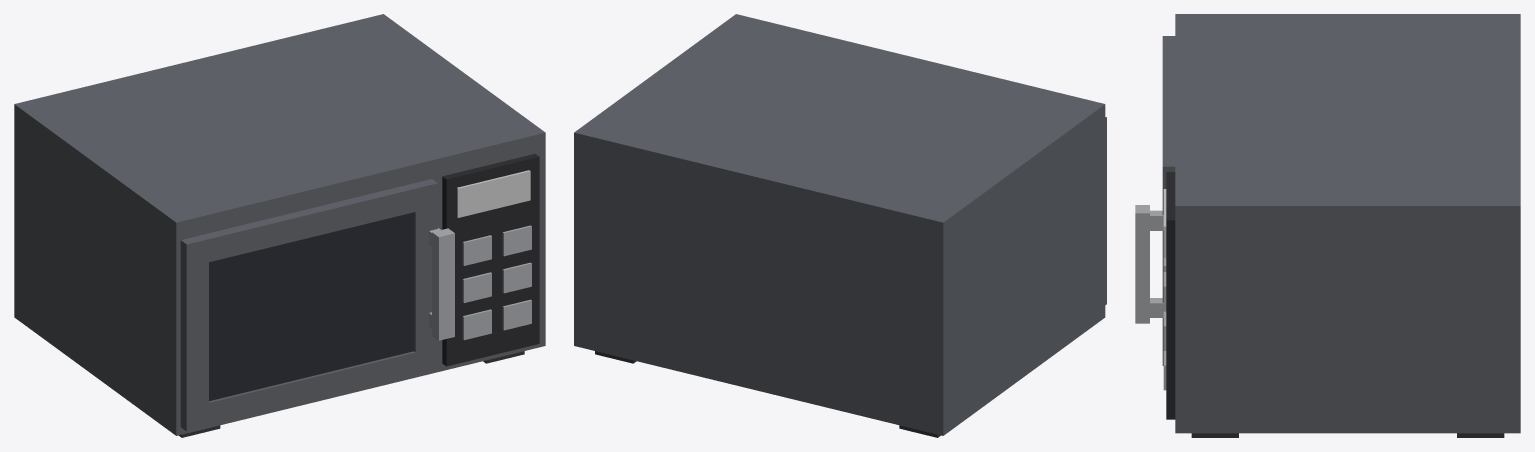
The model's file is FN_Appliance_Microwave.obj.
3 views of the same model, side by side, from view 1: azimuth 30°, elevation 25°; view 2: azimuth 150°, elevation 25°; view 3: azimuth 270°, elevation 25° (orthographic). The views are drawn at different scales.
Parts seen in each view (by area): view 1: FN_Appliance_Microwave; view 2: FN_Appliance_Microwave; view 3: FN_Appliance_Microwave.
Boxes of the visible parts, x1=… form: FN_Appliance_Microwave: x1=14, y1=14, x2=545, y2=437; FN_Appliance_Microwave: x1=574, y1=14, x2=1106, y2=437; FN_Appliance_Microwave: x1=1135, y1=14, x2=1520, y2=437.
Size of the model in its own units: 0.5 by 0.29 by 0.424.
2 materials, 1 textured.
